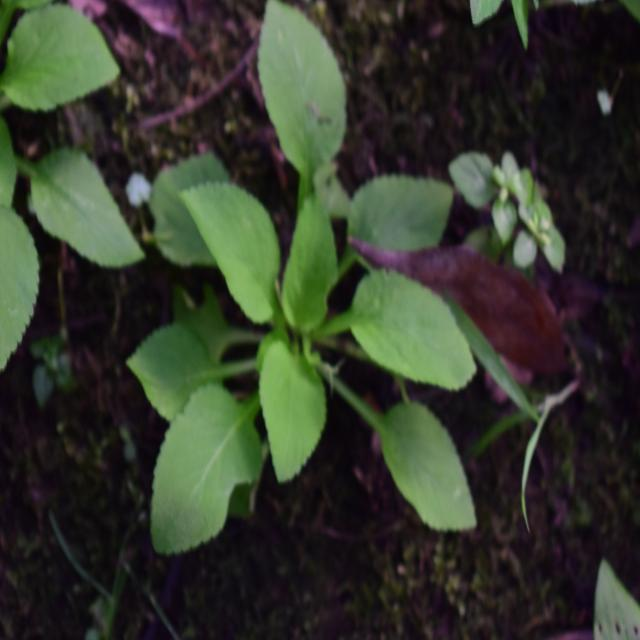Viola: (146, 12, 474, 558)
